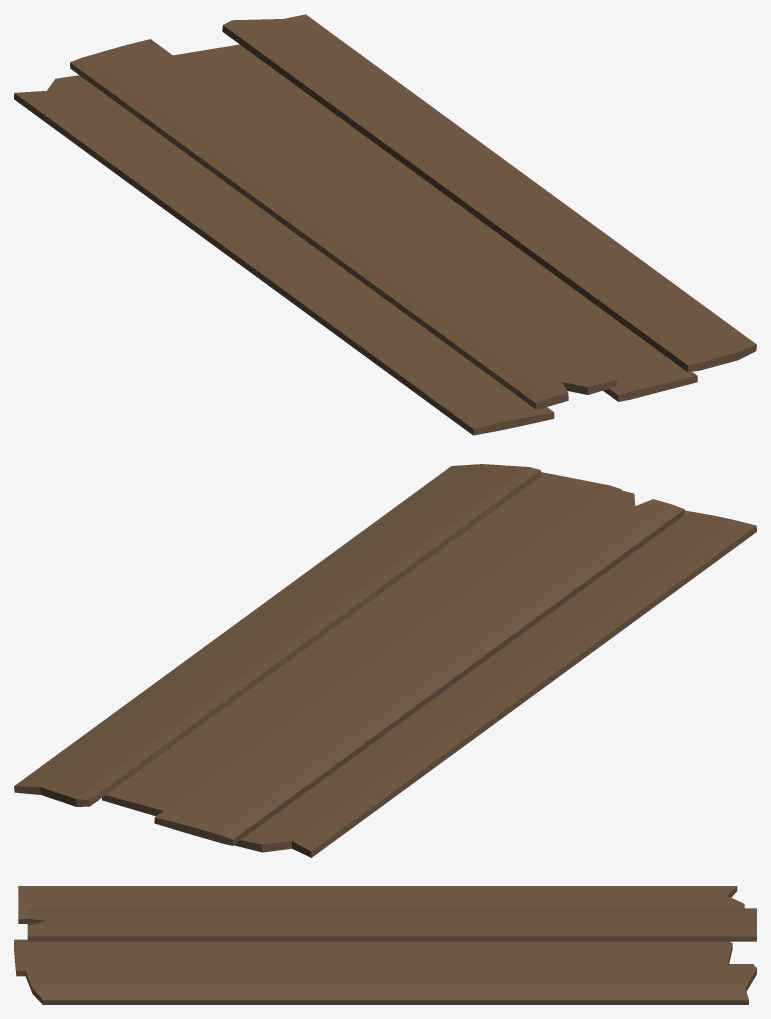
The model's file is WoodPlanks.fbx.
3 views of the same model, one above another, from view 1: azimuth 30°, elevation 25°; view 2: azimuth 150°, elevation 25°; view 3: azimuth 270°, elevation 25° (orthographic). The views are drawn at different scales.
Visible parts, largest first — view 1: WoodPlanks_LOD0; view 2: WoodPlanks_LOD0; view 3: WoodPlanks_LOD0.
Boxes of the visible parts, x1,y1,x2,y2 form: WoodPlanks_LOD0: (14,14,756,435); WoodPlanks_LOD0: (14,464,756,857); WoodPlanks_LOD0: (14,886,756,1004).
Size of what is drawn, in the model's own units: 390 by 21.98 by 1071.
1 material, 1 textured.
